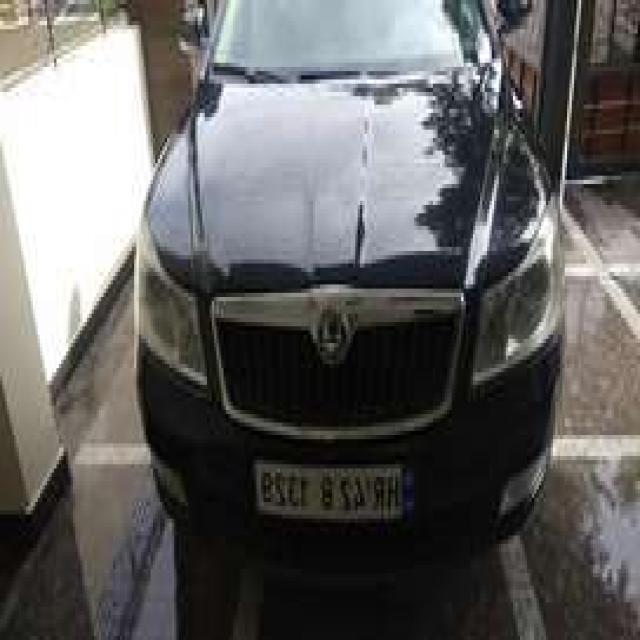license_plate: (252, 458, 417, 526)
